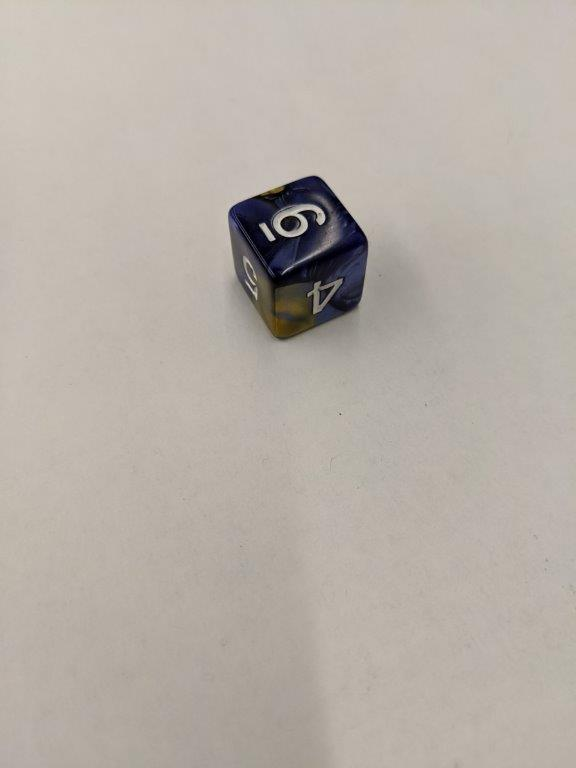d6-6: (229, 175, 368, 342)
